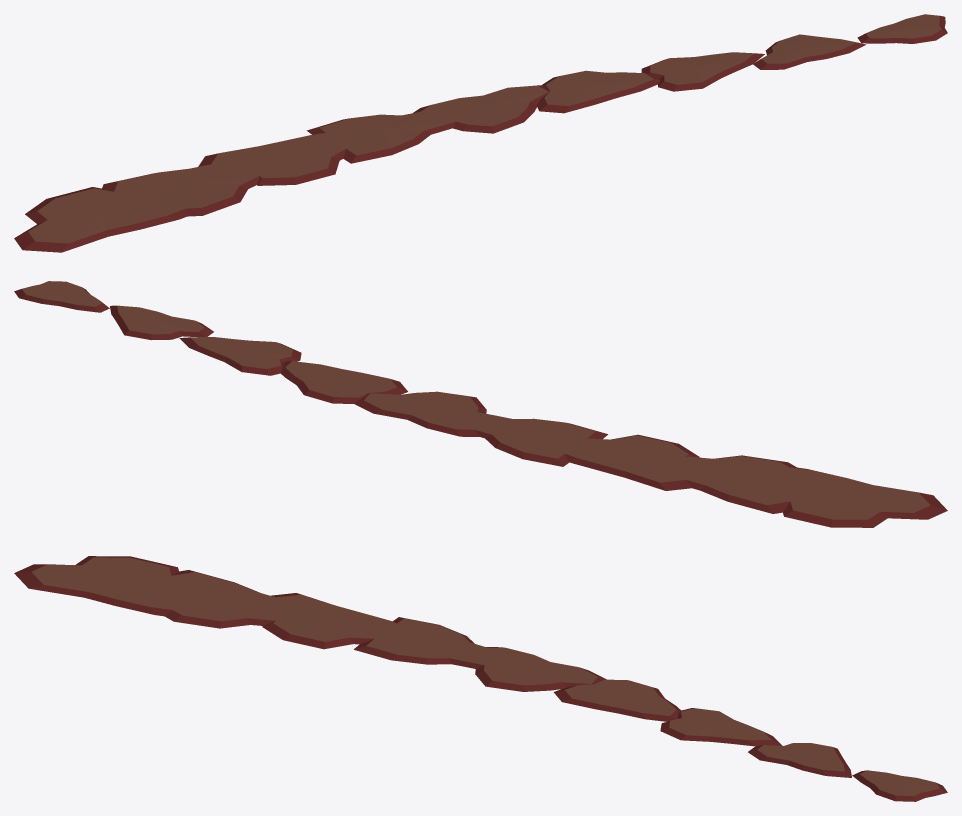
Rendered from gore_smear.glb.
The picture shows the model from 3 angles, top to bottom: view 1: azimuth 30°, elevation 25°; view 2: azimuth 150°, elevation 25°; view 3: azimuth 330°, elevation 25°; orthographic projection.
Visible parts, largest first — view 1: NC_gore_smear; view 2: NC_gore_smear; view 3: NC_gore_smear.
Part boxes in pixels (x1=…): NC_gore_smear: x1=14, y1=14, x2=947, y2=252; NC_gore_smear: x1=14, y1=281, x2=947, y2=527; NC_gore_smear: x1=14, y1=556, x2=947, y2=801.
Size of the model in its own units: 1.99 by 0.00826 by 0.2494.
